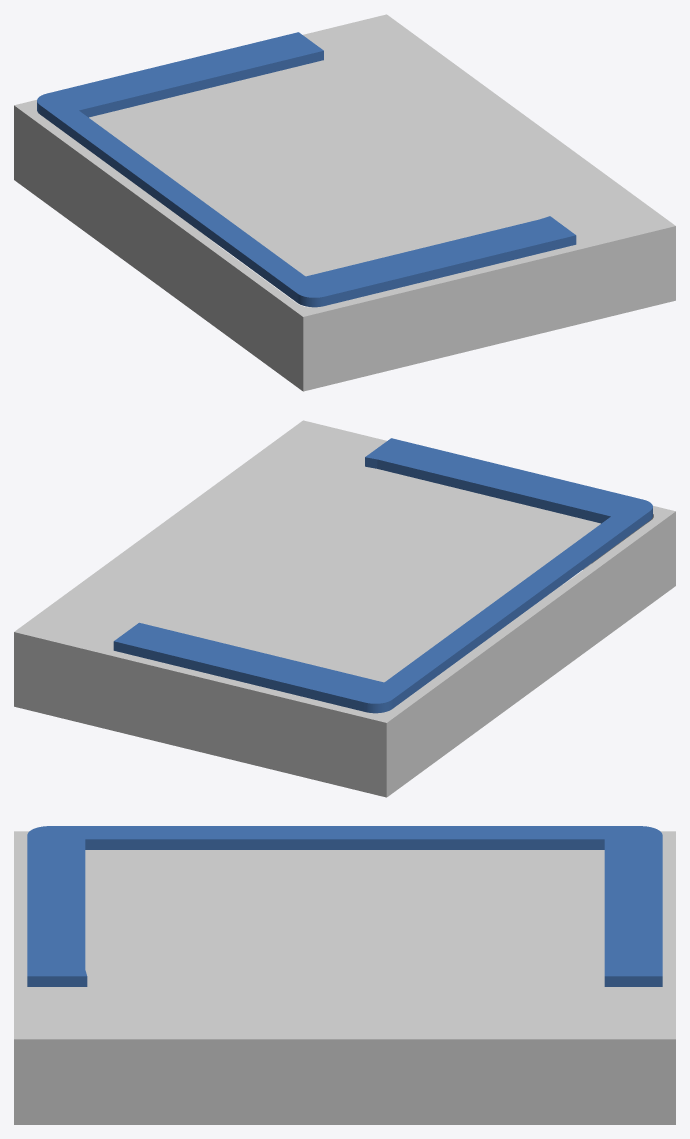
3 renders of one model, top to bottom at view 1: azimuth 30°, elevation 25°; view 2: azimuth 150°, elevation 25°; view 3: azimuth 270°, elevation 25°, orthographic. The views are drawn at different scales.
Parts seen in each view (by area): view 1: Cube, Case.001; view 2: Cube, Case.001; view 3: Cube, Case.001.
Boxes of the visible parts, x1=… form: Cube: x1=14, y1=14, x2=675, y2=391; Case.001: x1=37, y1=32, x2=576, y2=307; Cube: x1=14, y1=420, x2=675, y2=797; Case.001: x1=113, y1=438, x2=652, y2=713; Cube: x1=14, y1=831, x2=675, y2=1124; Case.001: x1=27, y1=826, x2=662, y2=986.
Size of the model in its own units: 7.95 by 1.71 by 10.68.
